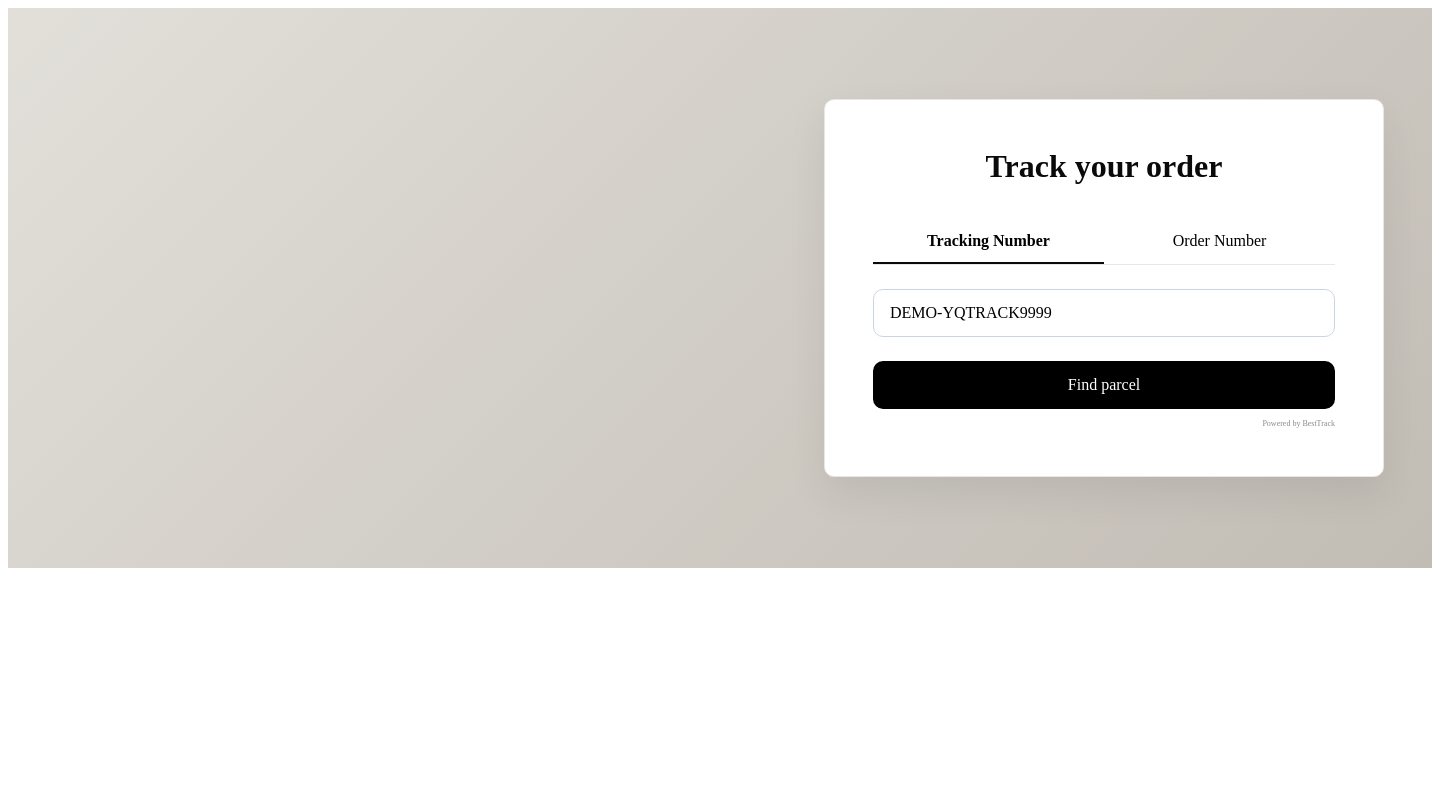
Scenario: Branded uses the Ready-to-go foundation › switches shipment progress, events, items, carrier, destination, estimate and ad together
Replace the text in the field named "tracking number" with "AAA" at [1104, 313], box [873,289,1335,337]
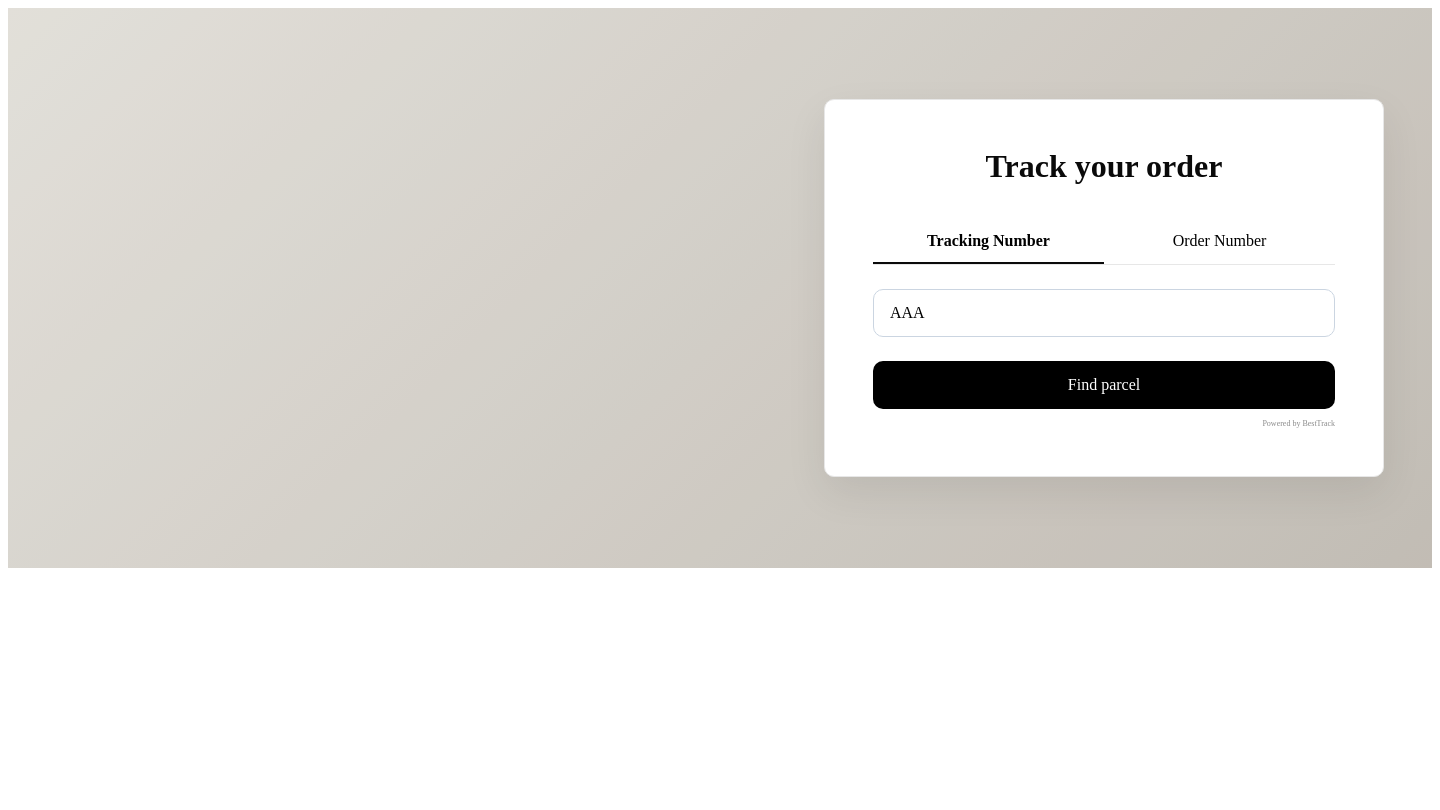
Click the button "Find parcel" at [1104, 385], box [873,361,1335,409]
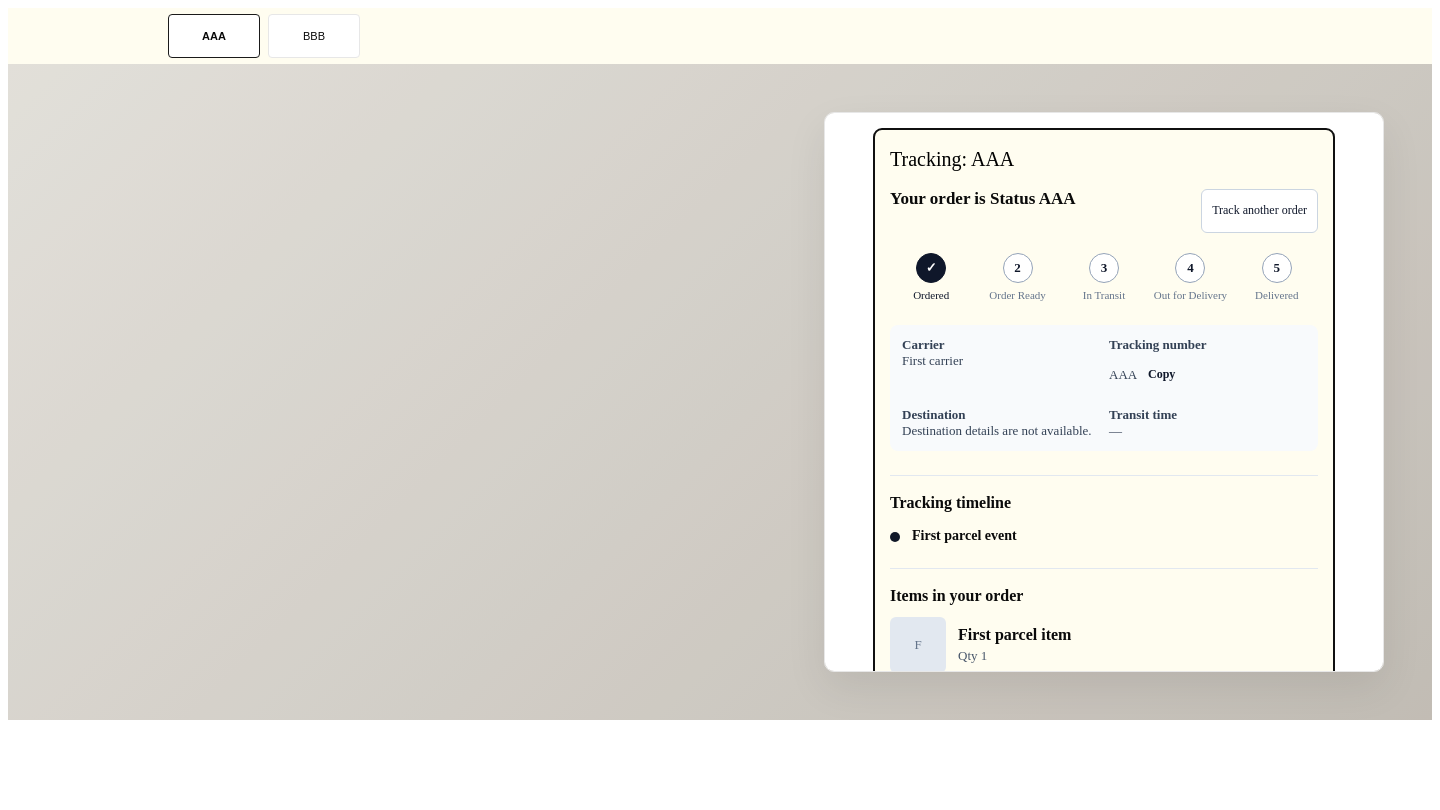
Expected: the text "Your order is Status AAA" is shown, [890,189,1076,208]
Click the button "BBB" at [314, 36], box [268,14,360,58]
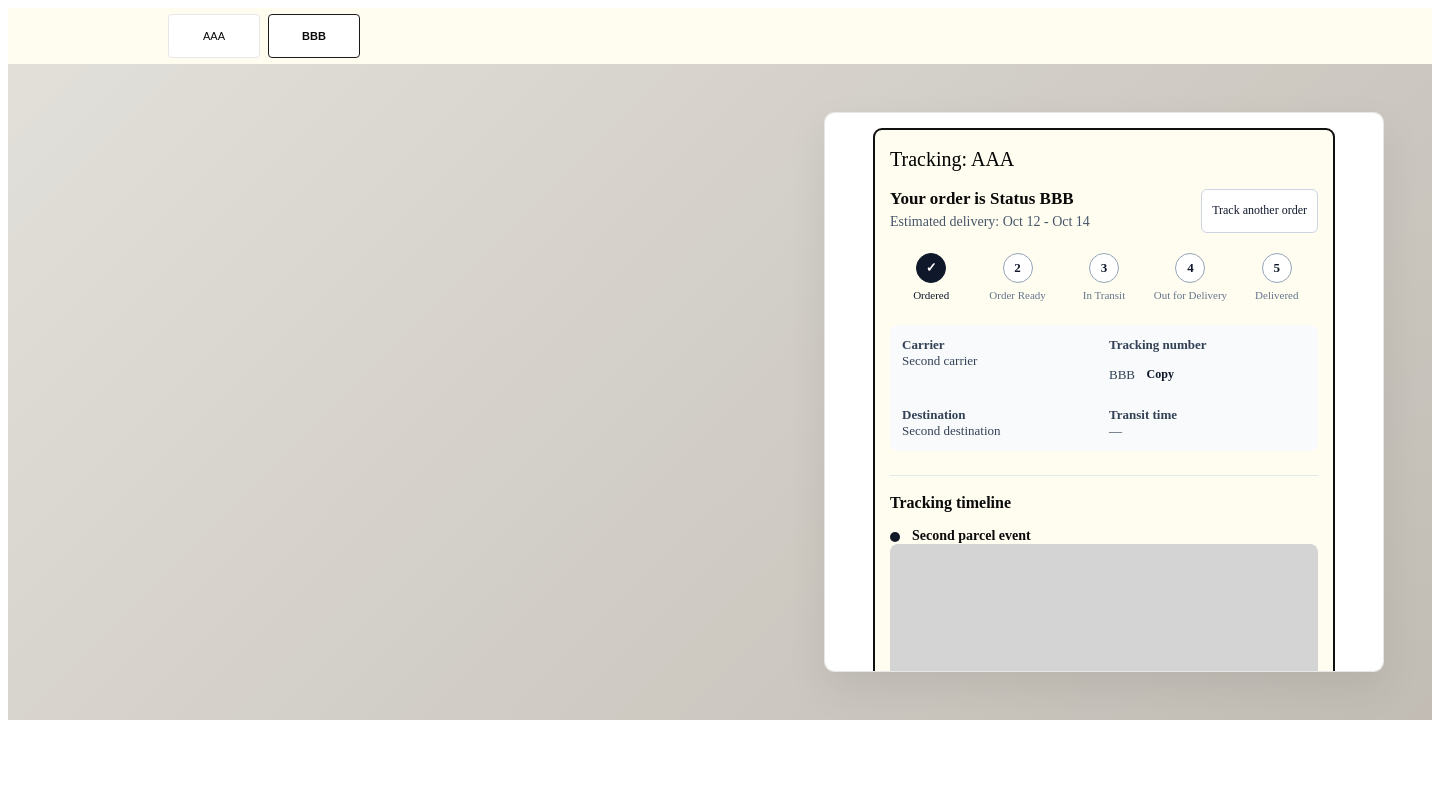
Expected: the text "Second carrier" is shown, [902,352,977,368]
Expected: the text "Second destination" is shown, [902,422,1001,438]
Expected: the text "Second parcel event" is shown, [912,528,1031,542]
